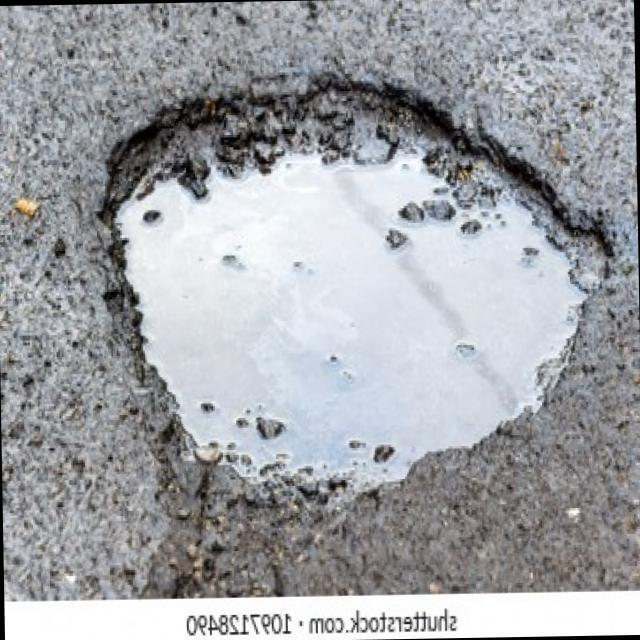pothole: (93, 64, 624, 504)
